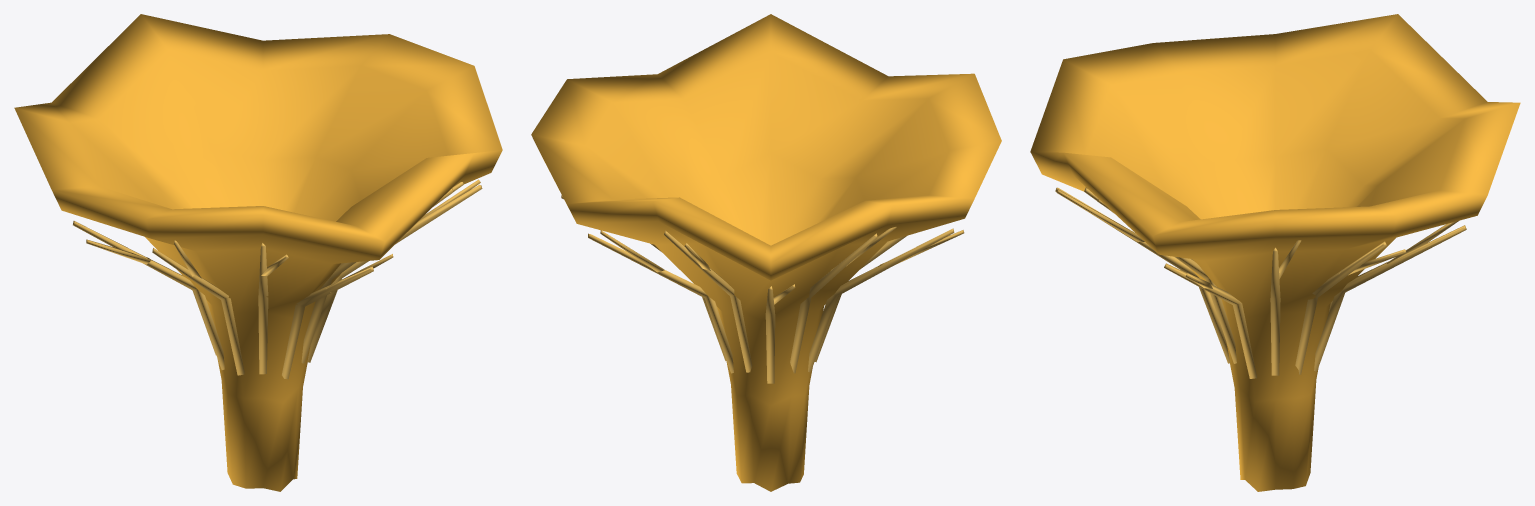
File: chanterelle.glb
3 renders of one model, left to right at view 1: azimuth 30°, elevation 25°; view 2: azimuth 150°, elevation 25°; view 3: azimuth 270°, elevation 25°, orthographic. The views are drawn at different scales.
Parts seen in each view (by area): view 1: fungus_chanterelle_LOD0; view 2: fungus_chanterelle_LOD0; view 3: fungus_chanterelle_LOD0.
Part boxes in pixels (x1,y1,x2,y2): fungus_chanterelle_LOD0: [14, 14, 502, 491]; fungus_chanterelle_LOD0: [531, 14, 1001, 491]; fungus_chanterelle_LOD0: [1030, 14, 1520, 491].
Size of the model in its own units: 0.168 by 0.1434 by 0.168.
